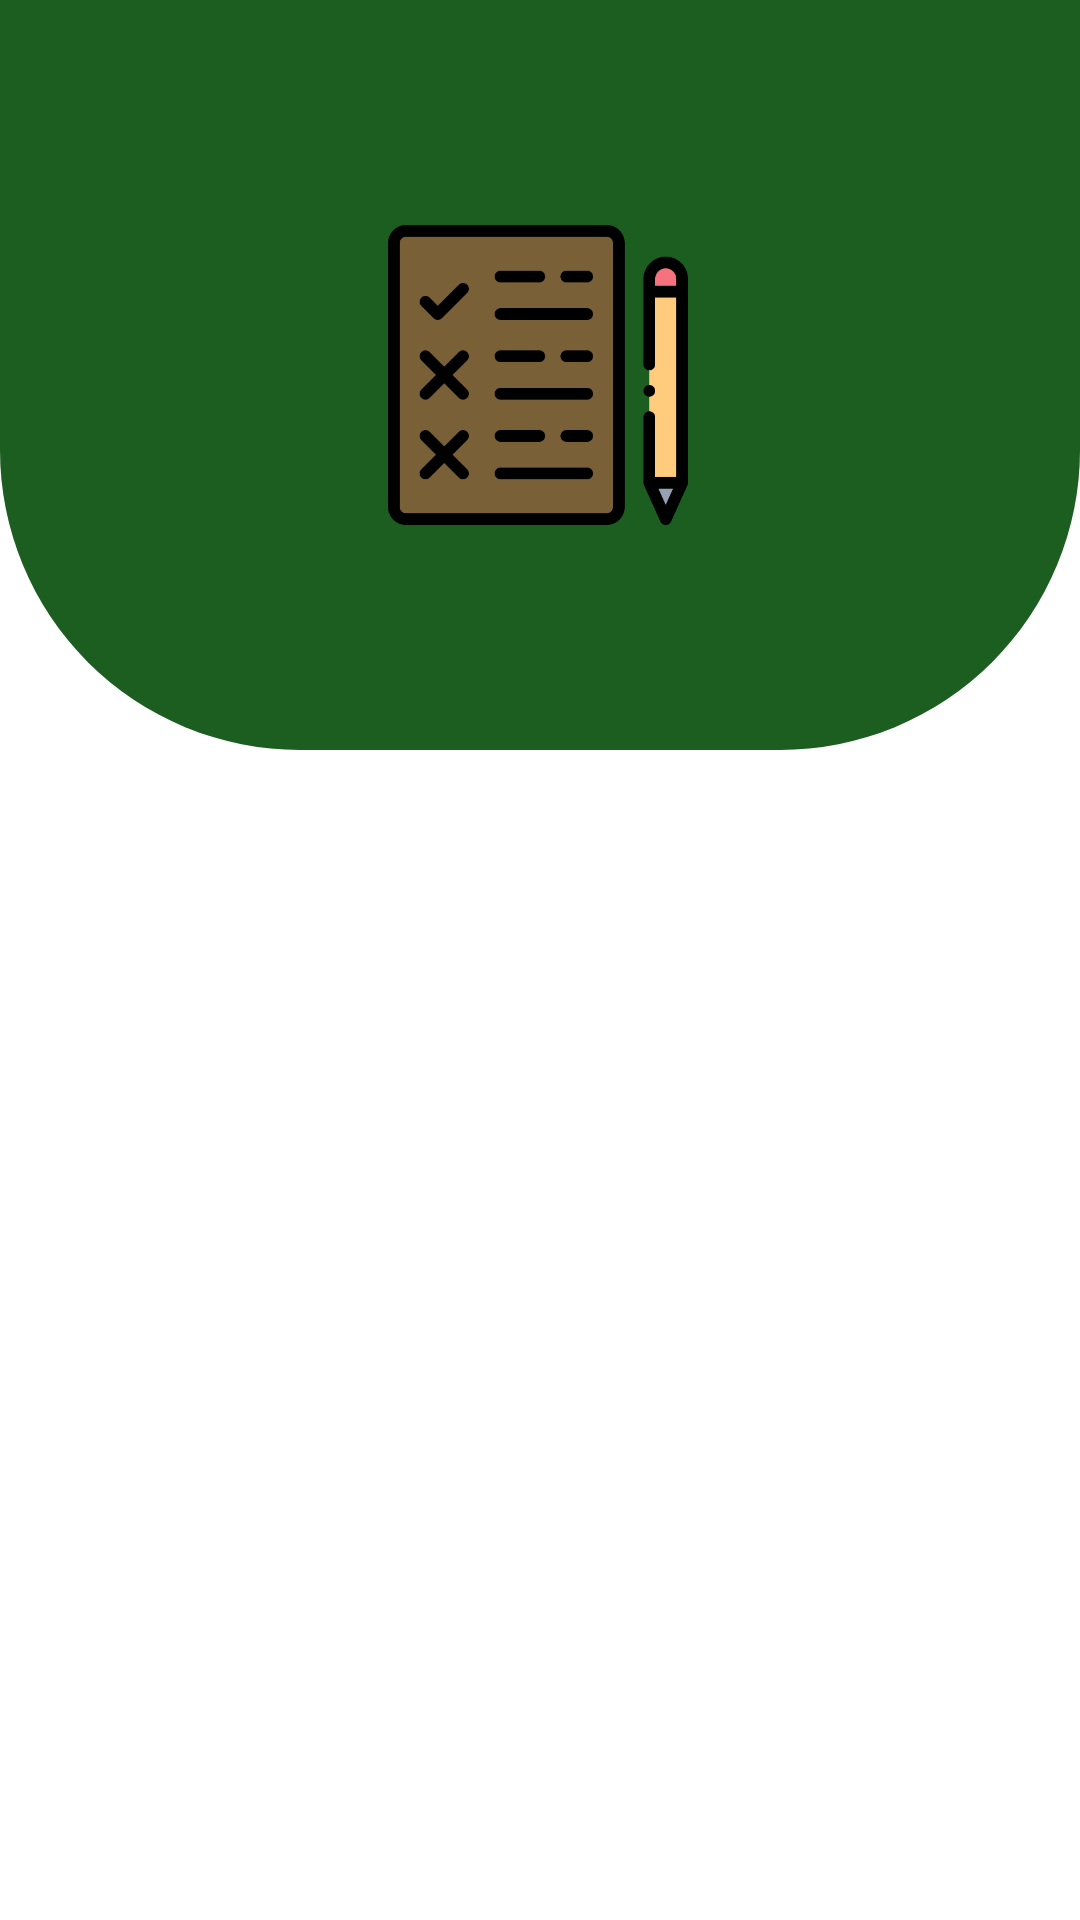

Screen size 1080px×1920px. Icon name, then its box in pixels as detection(x1, y1, x2, y2):
checklist: detection(388, 225, 688, 525)
